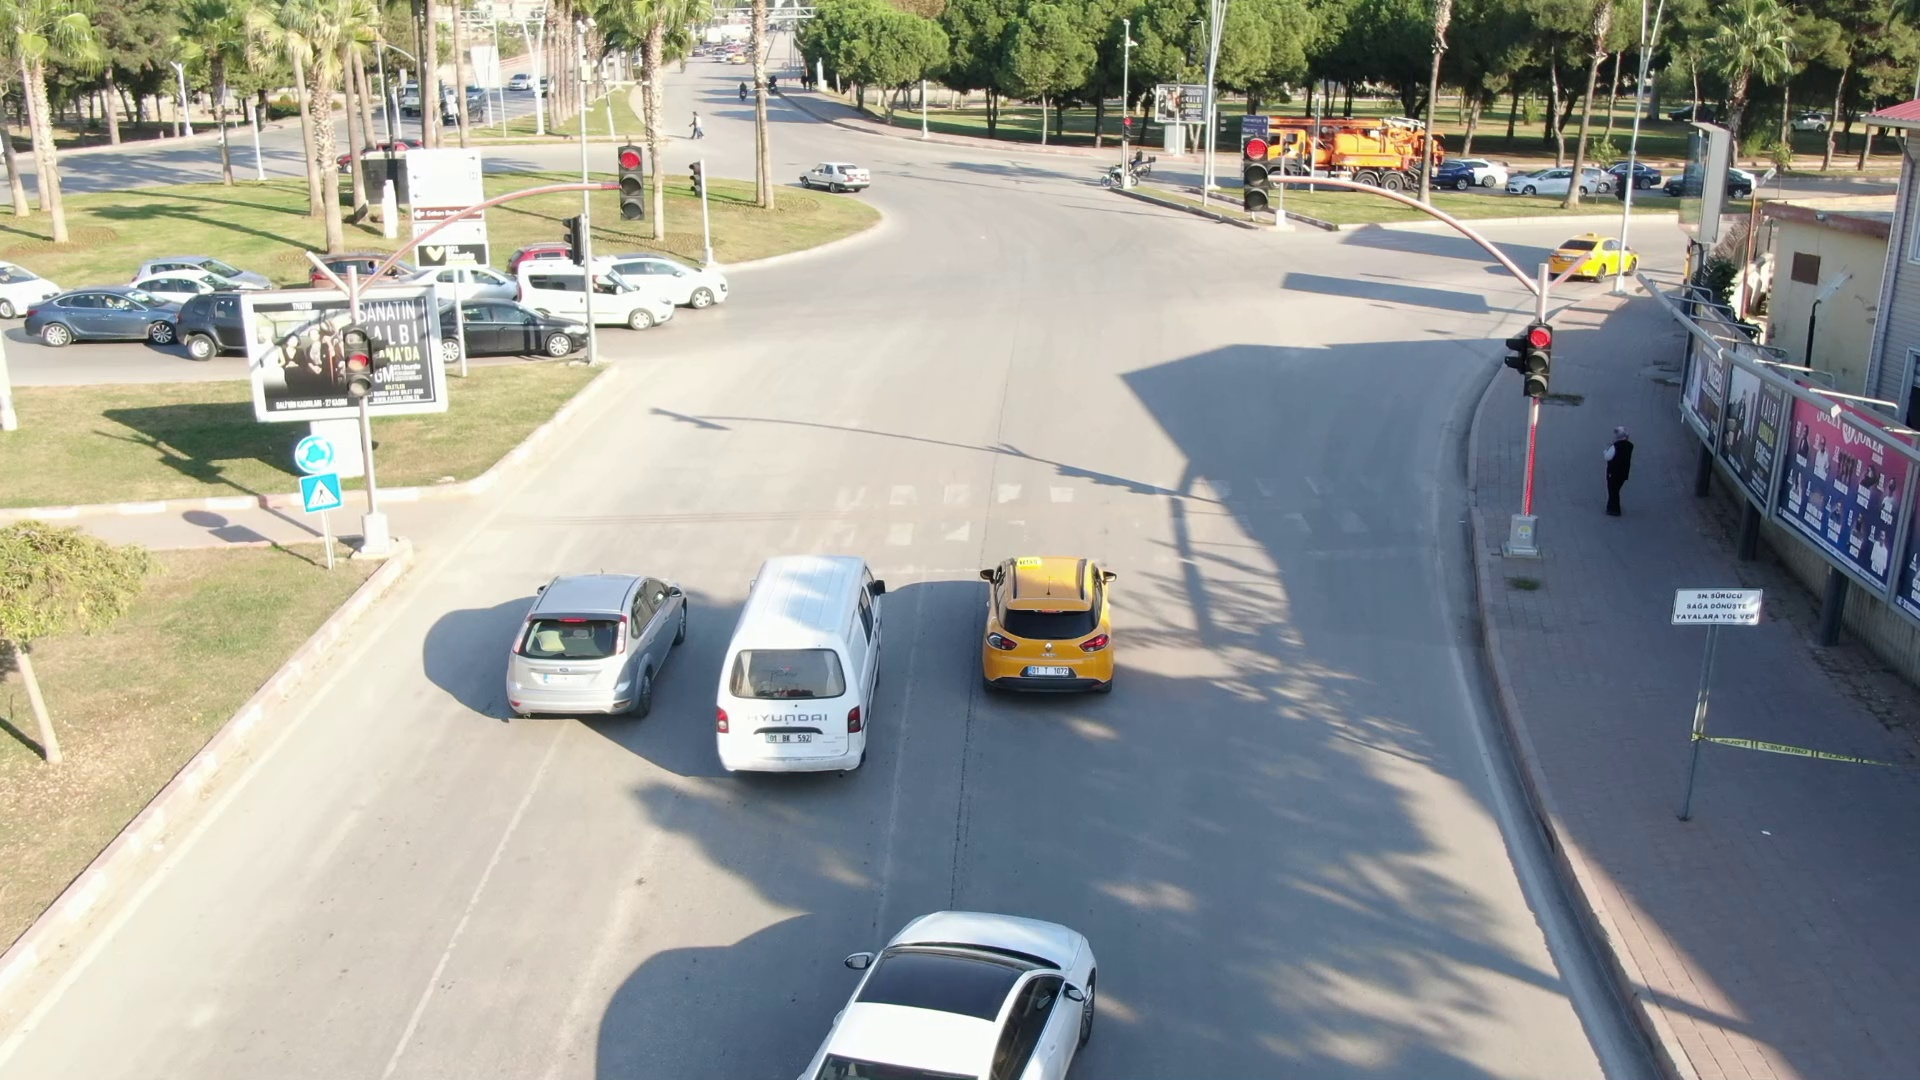car: (700, 546, 906, 787), (492, 572, 696, 731), (978, 547, 1117, 714), (510, 257, 682, 331), (445, 298, 594, 359), (592, 251, 735, 308)
person: (1594, 427, 1641, 523)
